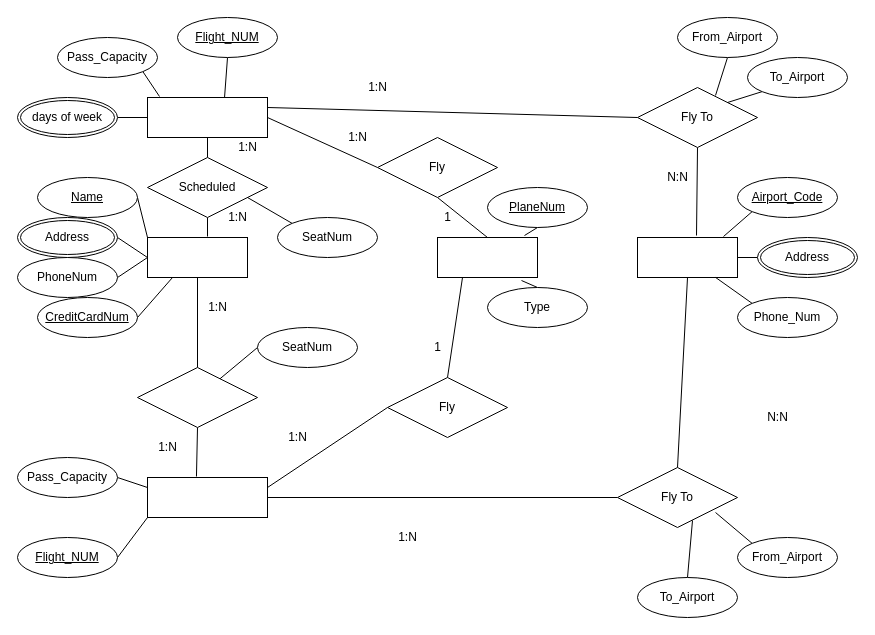
This 875x635 diagram has some shape labels left out. Each missing label, with the centre of its shape:
Actual_Flight: point 207,497
Airplanes: point 487,257
Airport: point 687,257
Flew: point 197,397
Passengers: point 197,257
Regular_Flight: point 207,117
